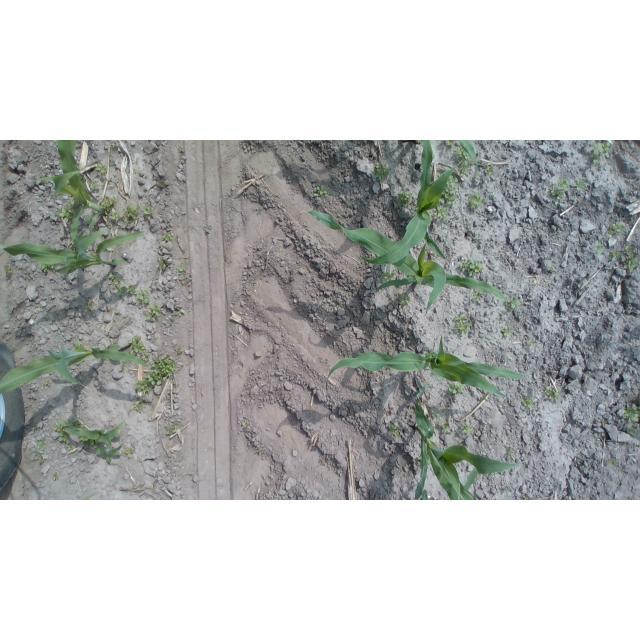Maize: (303, 209, 508, 315), (413, 384, 528, 500), (326, 335, 527, 399), (362, 140, 463, 264), (0, 341, 148, 392), (38, 141, 108, 248), (0, 230, 144, 276), (398, 141, 479, 180), (56, 419, 125, 443)
Weeds: (135, 354, 177, 393), (434, 176, 458, 207), (455, 146, 474, 177), (96, 441, 121, 464), (53, 424, 72, 451), (128, 336, 148, 361), (590, 141, 611, 164), (460, 259, 484, 276), (395, 191, 414, 210), (55, 205, 75, 223), (453, 316, 471, 336), (123, 204, 140, 223), (100, 197, 117, 215), (374, 162, 390, 181), (622, 406, 640, 422), (544, 386, 562, 402), (145, 305, 161, 322), (468, 193, 484, 210), (605, 224, 625, 237), (394, 291, 410, 307), (445, 382, 465, 394), (79, 437, 100, 448), (136, 290, 150, 305), (388, 424, 402, 439), (176, 261, 191, 275), (506, 297, 521, 311), (437, 206, 450, 222), (63, 420, 85, 429), (132, 398, 146, 412), (70, 196, 86, 208), (109, 272, 121, 288), (380, 270, 396, 282), (506, 444, 517, 461), (549, 187, 563, 200), (95, 162, 108, 175), (438, 422, 451, 435), (557, 178, 570, 191), (142, 207, 154, 221), (115, 286, 127, 300), (110, 208, 123, 220), (594, 244, 606, 257), (609, 251, 623, 262), (625, 259, 639, 270), (41, 263, 56, 273), (522, 396, 534, 408), (316, 184, 328, 196), (625, 246, 636, 259), (164, 425, 178, 435), (37, 437, 46, 452), (460, 423, 472, 434), (574, 181, 586, 192), (157, 259, 167, 272), (124, 446, 134, 458), (443, 140, 456, 149), (90, 180, 101, 190), (429, 408, 440, 418), (502, 327, 513, 337), (473, 291, 484, 301), (162, 233, 175, 241), (127, 285, 137, 295), (86, 216, 97, 225), (3, 266, 13, 275), (74, 343, 86, 350), (485, 166, 494, 175), (202, 225, 212, 233), (179, 277, 192, 283), (528, 338, 536, 347), (84, 302, 92, 311), (119, 360, 125, 372), (175, 309, 185, 316), (176, 347, 184, 355), (608, 459, 616, 466), (629, 428, 636, 435), (32, 423, 38, 431), (37, 455, 43, 463), (72, 242, 77, 251), (52, 473, 58, 480), (243, 422, 250, 428), (42, 381, 50, 386), (112, 142, 119, 147), (71, 453, 77, 458), (170, 317, 175, 322), (482, 395, 487, 400), (524, 496, 529, 501), (551, 269, 556, 274), (256, 449, 262, 453), (602, 421, 608, 425), (506, 487, 511, 491), (558, 226, 562, 231), (35, 305, 41, 308), (639, 397, 640, 404)
